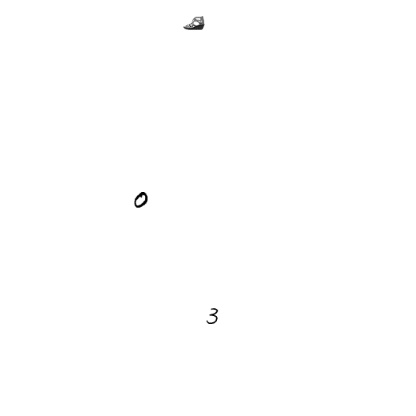0: (130, 188, 152, 210)
3: (202, 305, 224, 327)
Sandal: (183, 12, 205, 34)
